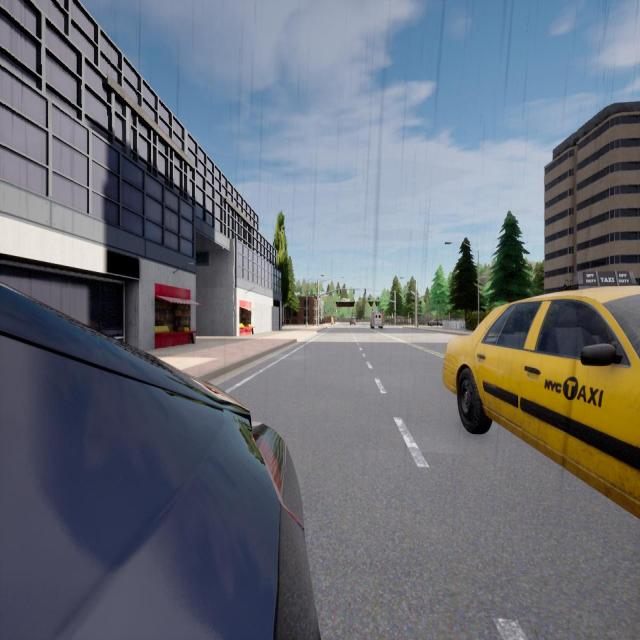Vehicle: (0, 279, 317, 640), (443, 286, 639, 517), (370, 311, 384, 329), (427, 318, 443, 326), (350, 316, 356, 326)
traffic_light: (394, 310, 396, 314), (340, 289, 341, 294), (365, 289, 366, 294), (368, 298, 369, 300), (360, 298, 360, 300), (378, 298, 378, 300), (354, 289, 354, 294)
